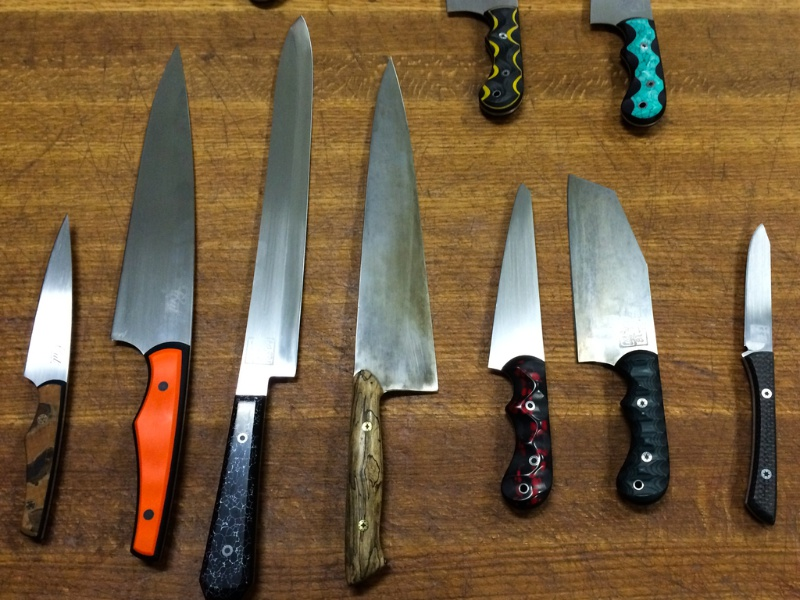knife: (94, 263, 656, 551)
